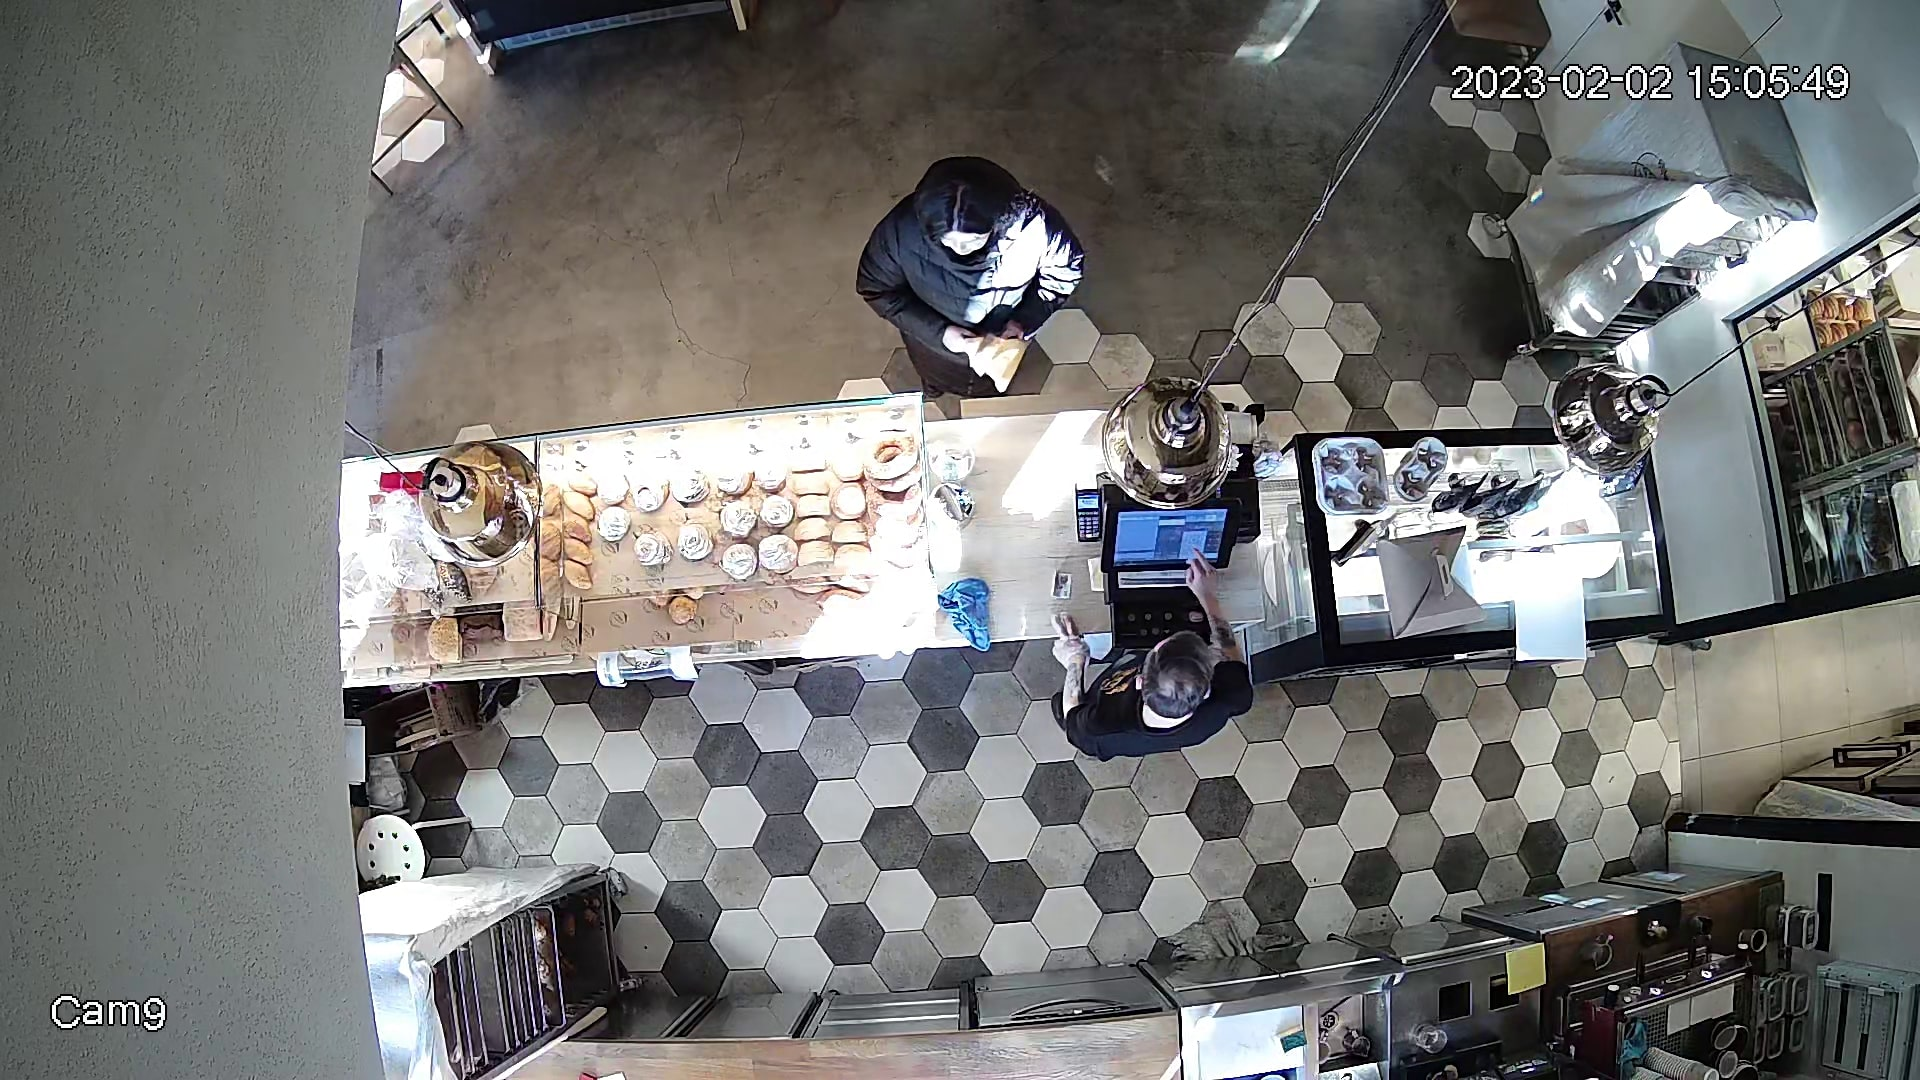barcounter: (360, 419, 1675, 707)
person: (822, 156, 1087, 392), (999, 613, 1257, 762)
